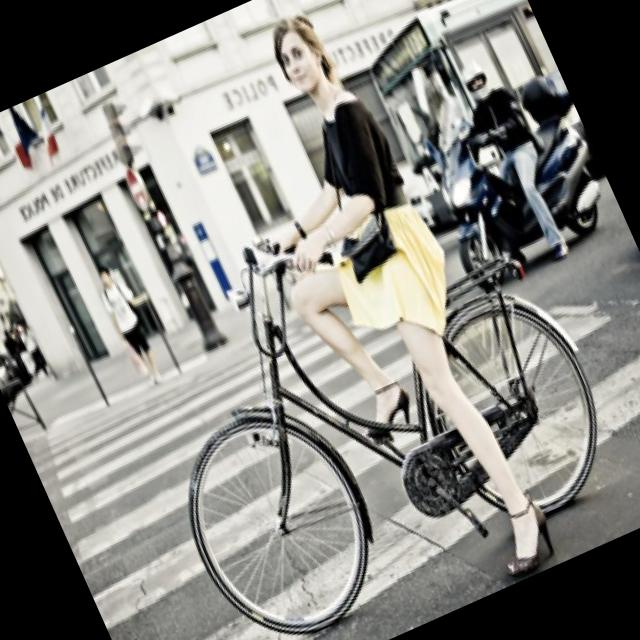bareface: (258, 3, 342, 104)
